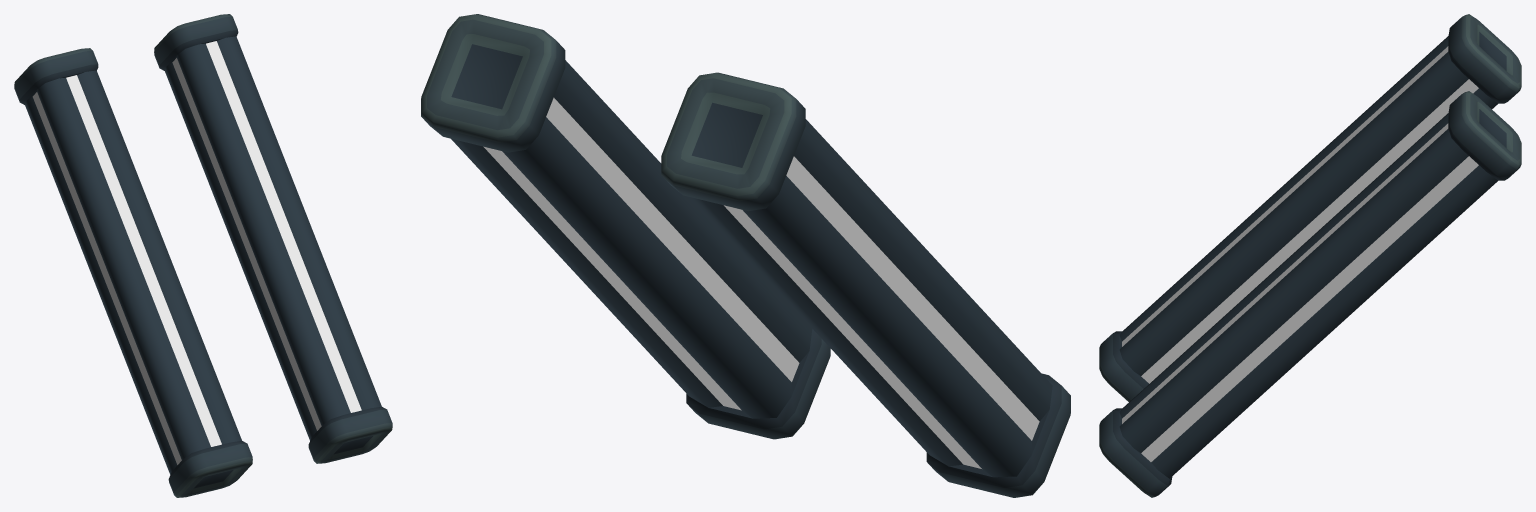
File: Track_Horizontal_Gold_Dia.fbx
3 renders of one model, left to right at view 1: azimuth 30°, elevation 25°; view 2: azimuth 150°, elevation 25°; view 3: azimuth 270°, elevation 25°, orthographic. The views are drawn at different scales.
Visible parts, largest first — view 1: Track_Horizontal_Gold_Dia_LOD0; view 2: Track_Horizontal_Gold_Dia_LOD0; view 3: Track_Horizontal_Gold_Dia_LOD0.
Part boxes in pixels (x1,y1,x2,y2): Track_Horizontal_Gold_Dia_LOD0: (14, 14, 392, 497); Track_Horizontal_Gold_Dia_LOD0: (421, 14, 1070, 497); Track_Horizontal_Gold_Dia_LOD0: (1099, 14, 1521, 497).
Size of what is drawn, in the model's own units: 0.7263 by 1.16 by 1.16.
